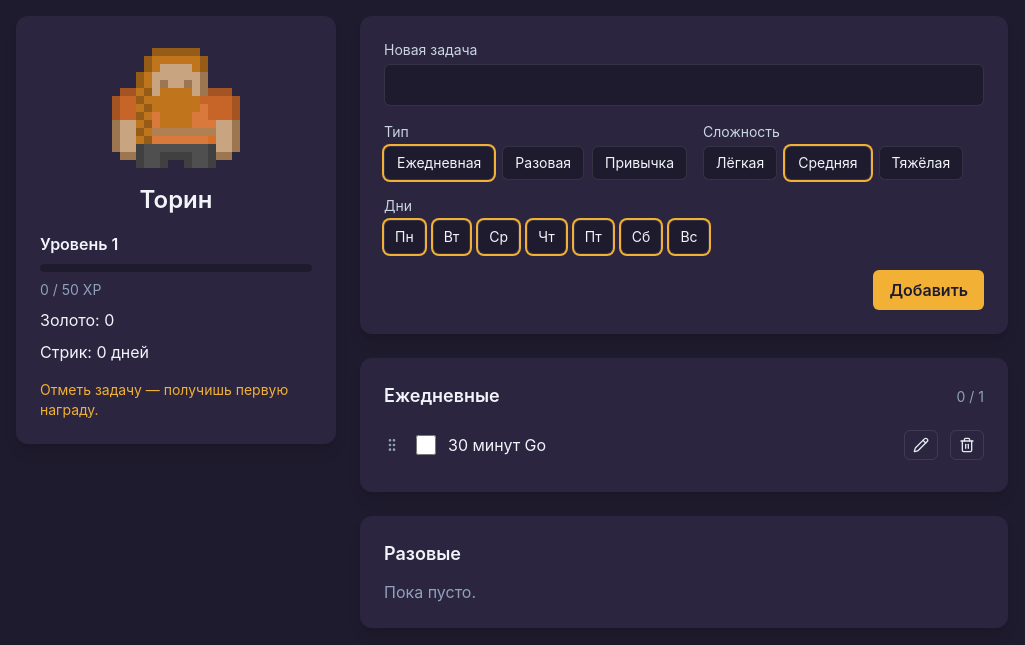
HomeView › does not repeat unseen items when the level stays the same
The image size is (1025, 645).
Click the checkbox named "Выполнено: 30 минут Go".
click(426, 445)  # box [416,435,436,455]
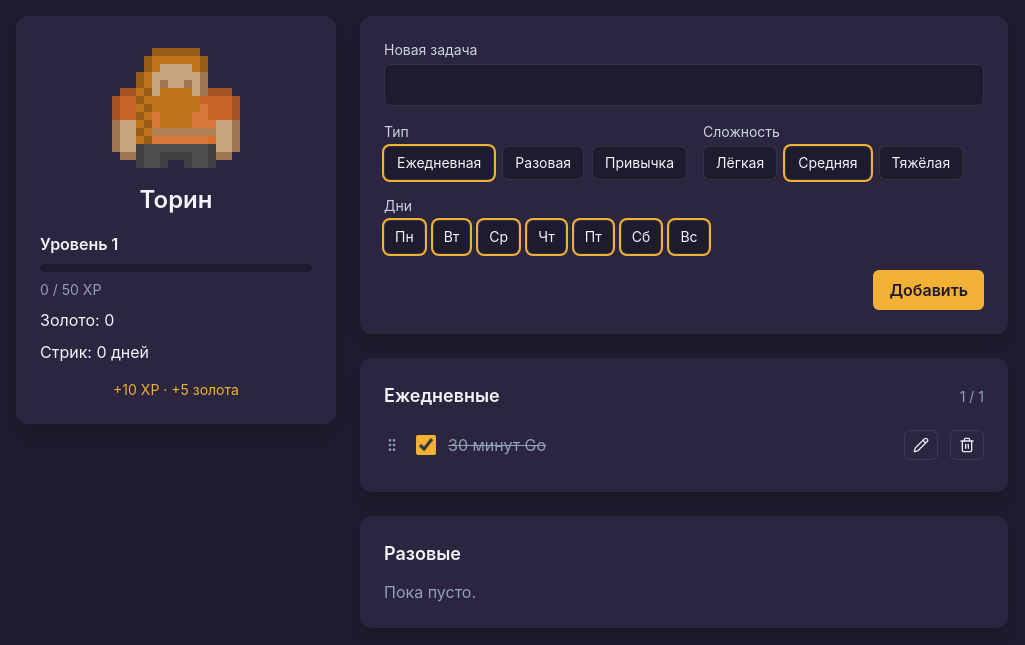
Expected: the message with test id "reward-notice" reads "+10 XP · +5 золота", [113,381,239,398]
